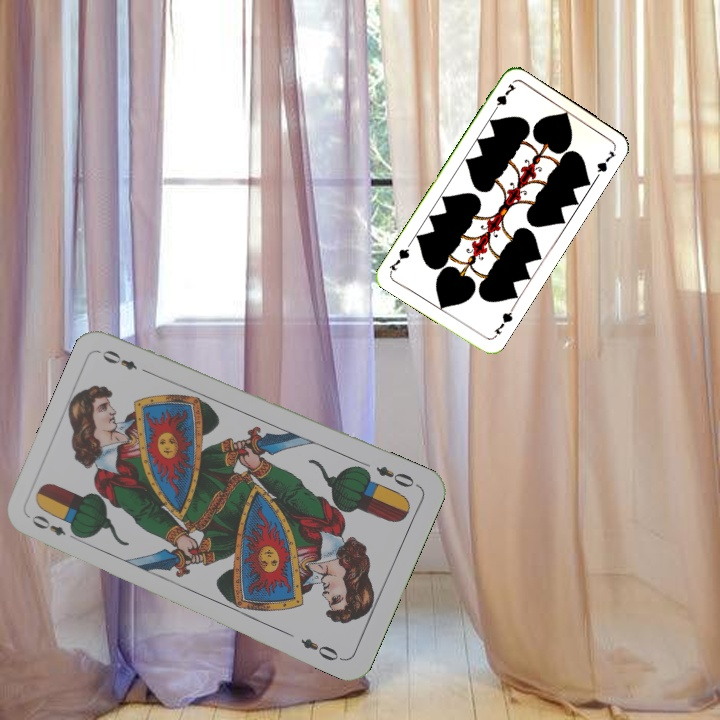EO: (27, 511, 82, 543), (372, 462, 417, 491)
G7: (488, 79, 518, 116), (489, 304, 516, 340)
